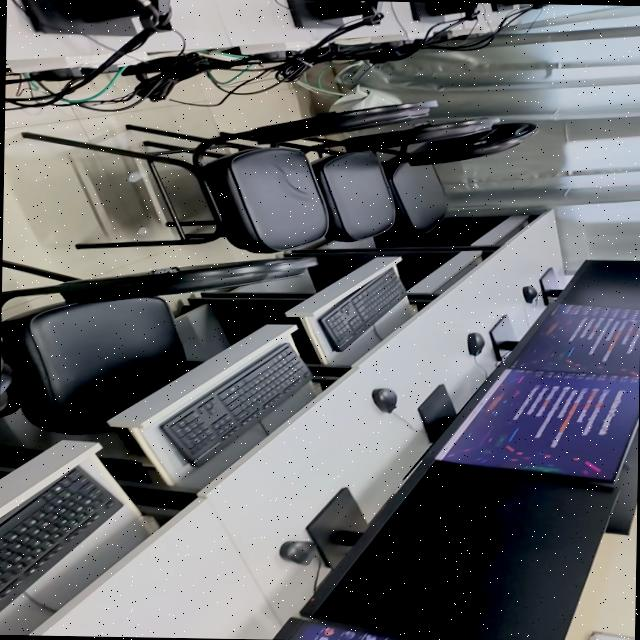Chair: (21, 101, 433, 253), (0, 257, 315, 434), (278, 118, 498, 241), (382, 122, 535, 234)
Keyboard: (157, 343, 309, 466), (0, 467, 119, 609), (317, 268, 403, 351)
Monitor: (301, 454, 616, 640), (416, 369, 639, 483), (489, 301, 640, 377), (21, 0, 171, 36), (539, 260, 640, 309), (272, 617, 399, 640), (286, 0, 382, 28), (409, 2, 477, 21), (490, 3, 518, 12), (522, 3, 530, 5)
Mouse: (521, 286, 537, 303)
Projector: (278, 540, 316, 565), (371, 388, 396, 412), (466, 332, 484, 356)
